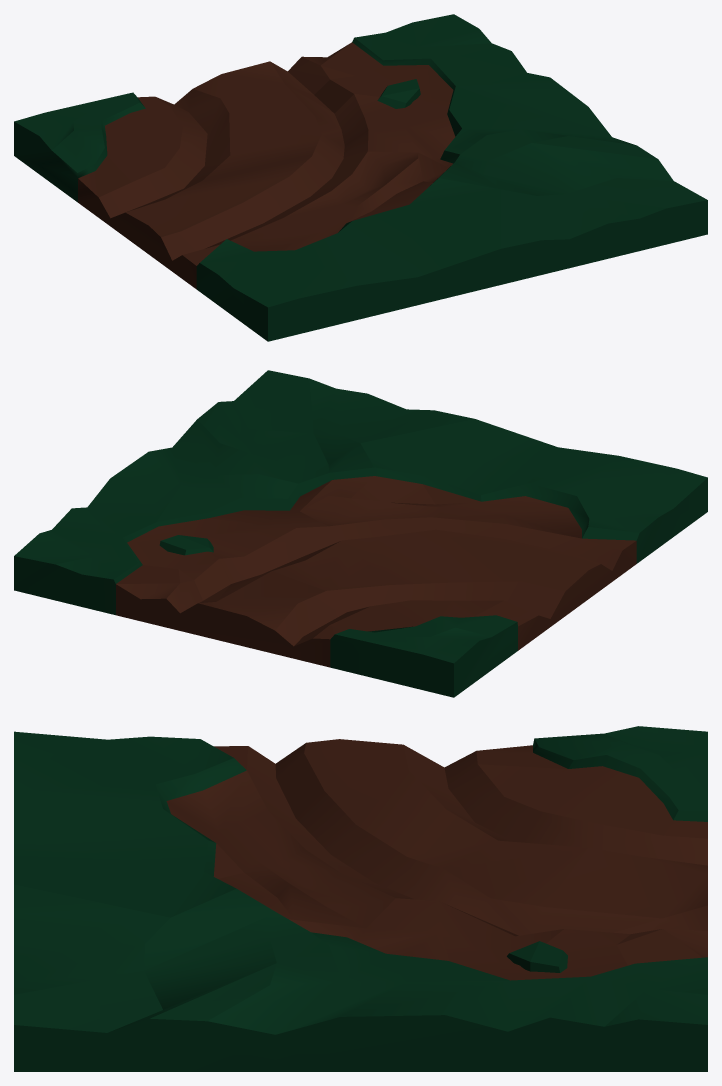
The model's file is Ground_Road_Turn_RB.fbx.
The picture shows the model from 3 angles, top to bottom: view 1: azimuth 30°, elevation 25°; view 2: azimuth 150°, elevation 25°; view 3: azimuth 270°, elevation 25°; orthographic projection. The views are drawn at different scales.
Visible parts, largest first — view 1: Ground_Road_Turn_RB; view 2: Ground_Road_Turn_RB; view 3: Ground_Road_Turn_RB.
Part boxes in pixels (box(x1,y1,x2,y2)): Ground_Road_Turn_RB: box(14, 14, 707, 341); Ground_Road_Turn_RB: box(14, 370, 707, 697); Ground_Road_Turn_RB: box(14, 726, 707, 1071).
Bounding box in the file's own units: 147 × 13.54 × 147.
